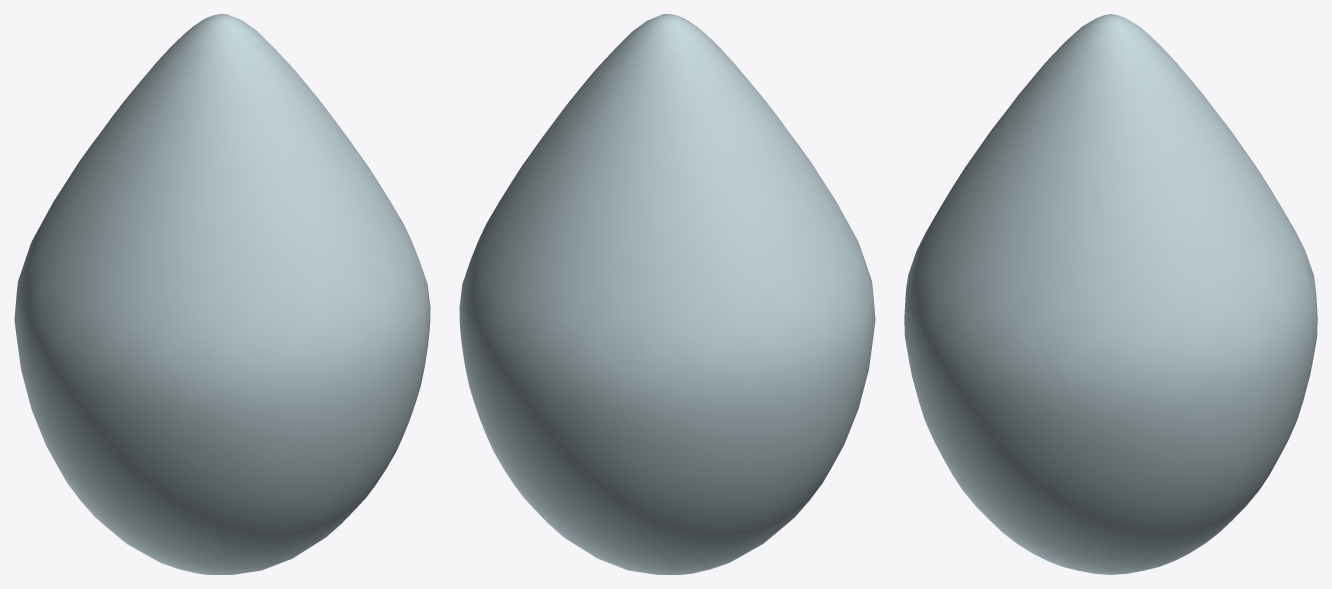
File: dew_drop.glb
3 views of the same model, side by side, from view 1: azimuth 30°, elevation 25°; view 2: azimuth 150°, elevation 25°; view 3: azimuth 270°, elevation 25° (orthographic).
Visible parts, largest first — view 1: SM_Forest_DewDrop; view 2: SM_Forest_DewDrop; view 3: SM_Forest_DewDrop.
Boxes of the visible parts, x1,y1,x2,y2 form: SM_Forest_DewDrop: [14, 14, 430, 574]; SM_Forest_DewDrop: [459, 14, 875, 574]; SM_Forest_DewDrop: [904, 14, 1317, 574].
Bounding box in the file's own units: 0.2705 × 0.394 × 0.2708.
